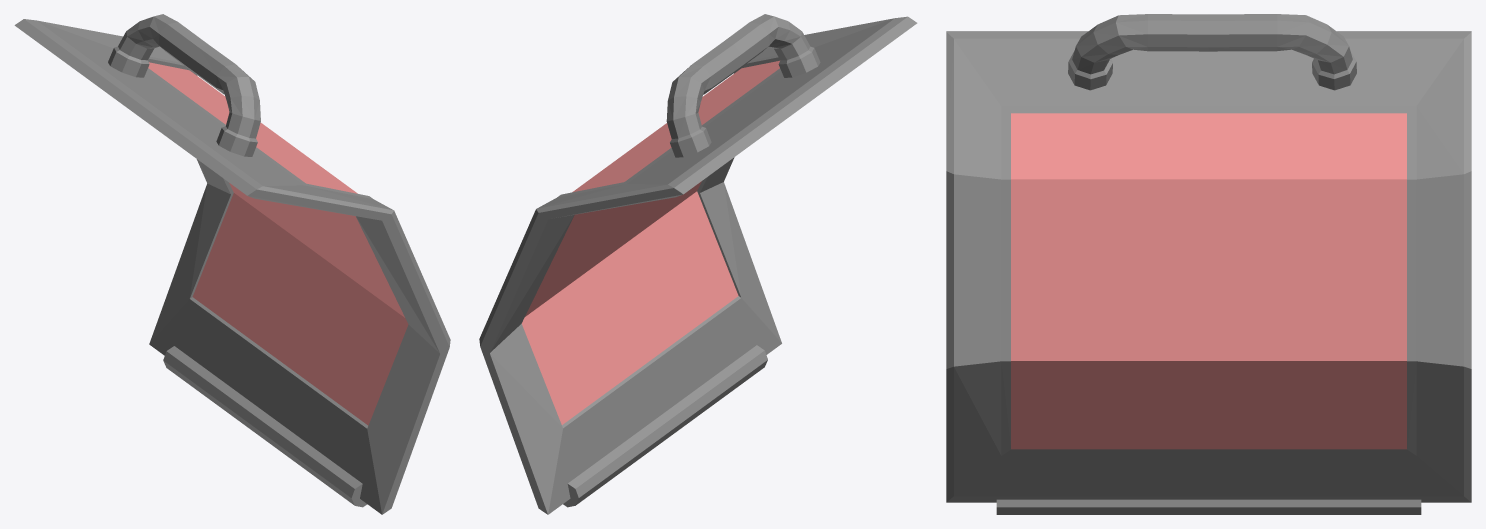
The model's file is ChamberDoor.fbx.
3 views of the same model, side by side, from view 1: azimuth 30°, elevation 25°; view 2: azimuth 150°, elevation 25°; view 3: azimuth 270°, elevation 25° (orthographic). The views are drawn at different scales.
Visible parts, largest first — view 1: SM_PressureConverterDoor; view 2: SM_PressureConverterDoor; view 3: SM_PressureConverterDoor.
Boxes of the visible parts, left/top/right/bottom form: SM_PressureConverterDoor: left=14, top=14, right=450, bottom=514; SM_PressureConverterDoor: left=479, top=14, right=917, bottom=514; SM_PressureConverterDoor: left=946, top=14, right=1471, bottom=514.
Bounding box in the file's own units: 28.96 × 54.83 × 56.57.
